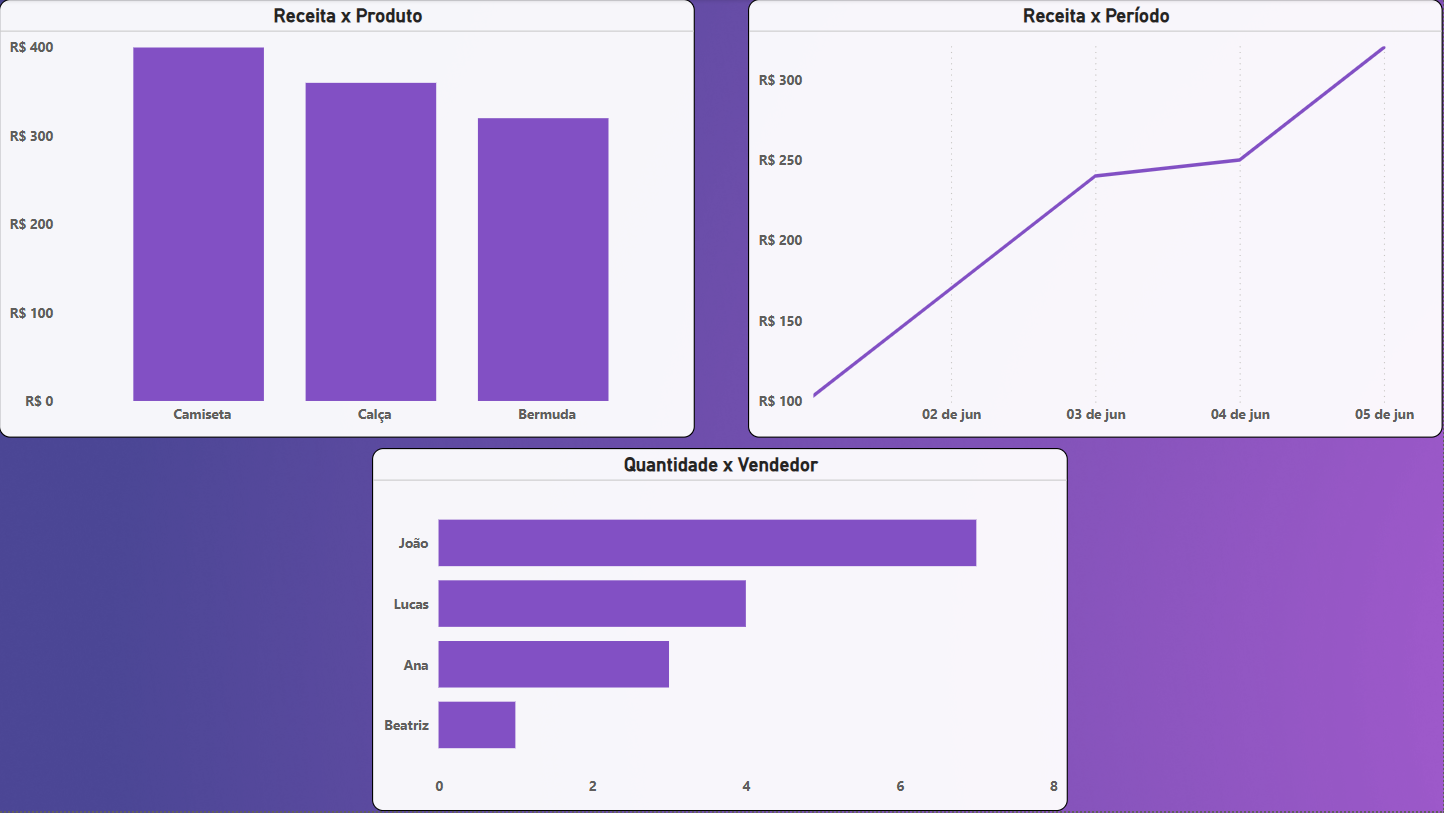

The dashboard page shown, as its layout file describes it:
{"tool":"powerbi","page":{"name":"Página 1","canvas":[1280,720],"ordinal":0},"visuals":[{"type":"lineClusteredColumnComboChart","title":"Receita x Produto","fields":{"Category":["vendas.Produto"],"Y":["Sum(vendas.Receita)"]},"box":[0,0,617,389.4],"z":0},{"type":"barChart","title":"Quantidade x Vendedor","fields":{"Category":["vendas.Vendedor"],"Y":["Sum(vendas.Quantidade)"]},"box":[330.6,398.5,617,321.5],"z":1},{"type":"lineChart","title":"Receita x Período","fields":{"Category":["vendas.Data.Variation.Date Hierarchy.Year","vendas.Data.Variation.Date Hierarchy.Quarter","vendas.Data.Variation.Date Hierarchy.Month","vendas.Data.Variation.Date Hierarchy.Day"],"Y":["Sum(vendas.Receita)"]},"box":[664.5,0,615.8,389.4],"z":2}]}

Visuals, with their boxes in screenshot pixels (x1, y1, x2, y2), scaled from the page's 1280x720 canvas onto the 1444x813 screenshot:
"Receita x Produto" lineClusteredColumnComboChart: 0/0/696/440
"Quantidade x Vendedor" barChart: 373/450/1069/812
"Receita x Período" lineChart: 750/0/1443/440
